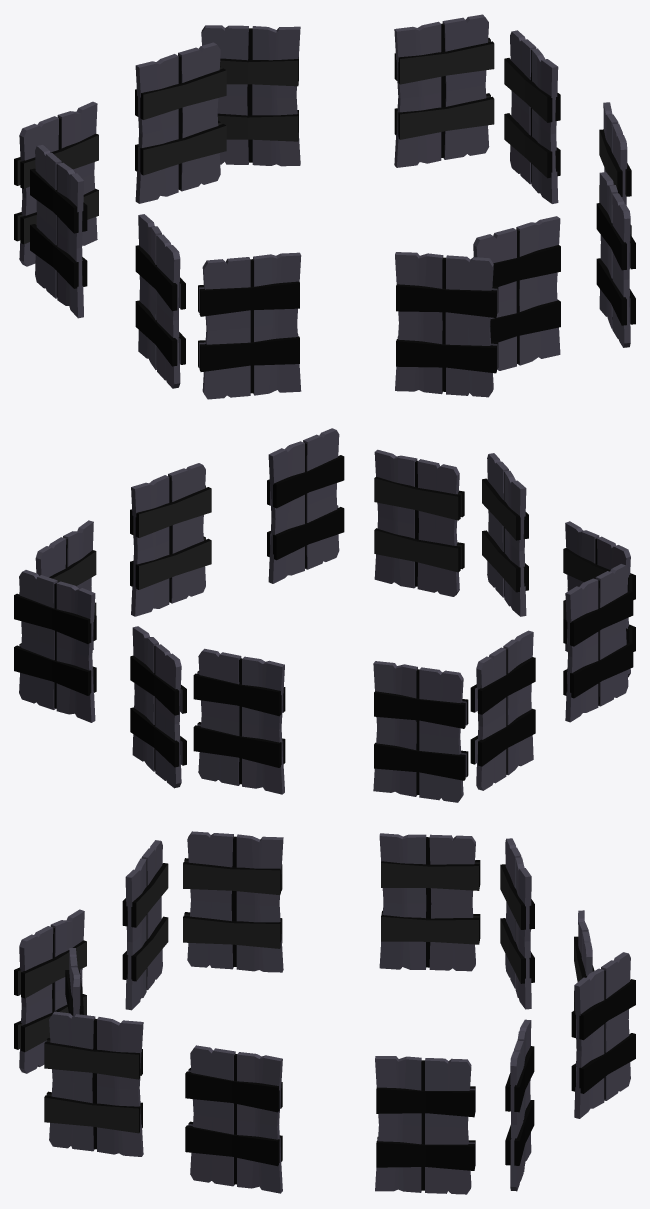
The model's file is NecroPencere.fbx.
The picture shows the model from 3 angles, top to bottom: view 1: azimuth 30°, elevation 25°; view 2: azimuth 150°, elevation 25°; view 3: azimuth 270°, elevation 25°; orthographic projection. The views are drawn at different scales.
Parts seen in each view (by area): view 1: NecroPencere.001, NecroPencere.011, NecroPencere.009, NecroPencere.003, NecroPencere.004, NecroPencere.002, NecroPencere.007, NecroPencere.010, NecroPencere.012, NecroPencere.008, NecroPencere.006, NecroPencere.005; view 2: NecroPencere.008, NecroPencere.003, NecroPencere.002, NecroPencere.009, NecroPencere.005, NecroPencere.006, NecroPencere.012, NecroPencere.007, NecroPencere.004, NecroPencere.001, NecroPencere.011, NecroPencere.010; view 3: NecroPencere.010, NecroPencere.007, NecroPencere.012, NecroPencere.006, NecroPencere.005, NecroPencere.004, NecroPencere.001, NecroPencere.011, NecroPencere.008, NecroPencere.009, NecroPencere.003, NecroPencere.002.
Part boxes in pixels (bbox=[...]): NecroPencere.001: bbox=[395, 252, 498, 397]; NecroPencere.011: bbox=[198, 252, 301, 399]; NecroPencere.009: bbox=[394, 14, 494, 167]; NecroPencere.003: bbox=[135, 42, 226, 203]; NecroPencere.004: bbox=[201, 25, 300, 166]; NecroPencere.002: bbox=[473, 216, 560, 370]; NecroPencere.007: bbox=[30, 145, 87, 318]; NecroPencere.010: bbox=[504, 30, 560, 203]; NecroPencere.012: bbox=[135, 214, 185, 388]; NecroPencere.008: bbox=[14, 101, 98, 266]; NecroPencere.006: bbox=[596, 172, 635, 347]; NecroPencere.005: bbox=[599, 102, 631, 235]; NecroPencere.008: bbox=[373, 661, 468, 802]; NecroPencere.003: bbox=[193, 648, 285, 794]; NecroPencere.002: bbox=[374, 449, 464, 596]; NecroPencere.009: bbox=[14, 570, 96, 722]; NecroPencere.005: bbox=[130, 463, 211, 616]; NecroPencere.006: bbox=[267, 428, 344, 583]; NecroPencere.012: bbox=[563, 564, 633, 722]; NecroPencere.007: bbox=[470, 630, 535, 790]; NecroPencere.004: bbox=[130, 626, 186, 788]; NecroPencere.001: bbox=[482, 453, 528, 616]; NecroPencere.011: bbox=[563, 521, 635, 677]; NecroPencere.010: bbox=[35, 520, 96, 649]; NecroPencere.010: bbox=[375, 1056, 475, 1194]; NecroPencere.007: bbox=[379, 833, 480, 971]; NecroPencere.012: bbox=[183, 831, 283, 972]; NecroPencere.006: bbox=[44, 1011, 143, 1156]; NecroPencere.005: bbox=[185, 1045, 282, 1193]; NecroPencere.004: bbox=[571, 952, 635, 1118]; NecroPencere.001: bbox=[14, 909, 86, 1073]; NecroPencere.011: bbox=[122, 840, 168, 1010]; NecroPencere.008: bbox=[500, 838, 534, 1009]; NecroPencere.009: bbox=[505, 1019, 534, 1191]; NecroPencere.003: bbox=[574, 910, 594, 1010]; NecroPencere.002: bbox=[65, 948, 83, 1015].
Size of the model in its own units: 11.48 by 3.04 by 12.87.
